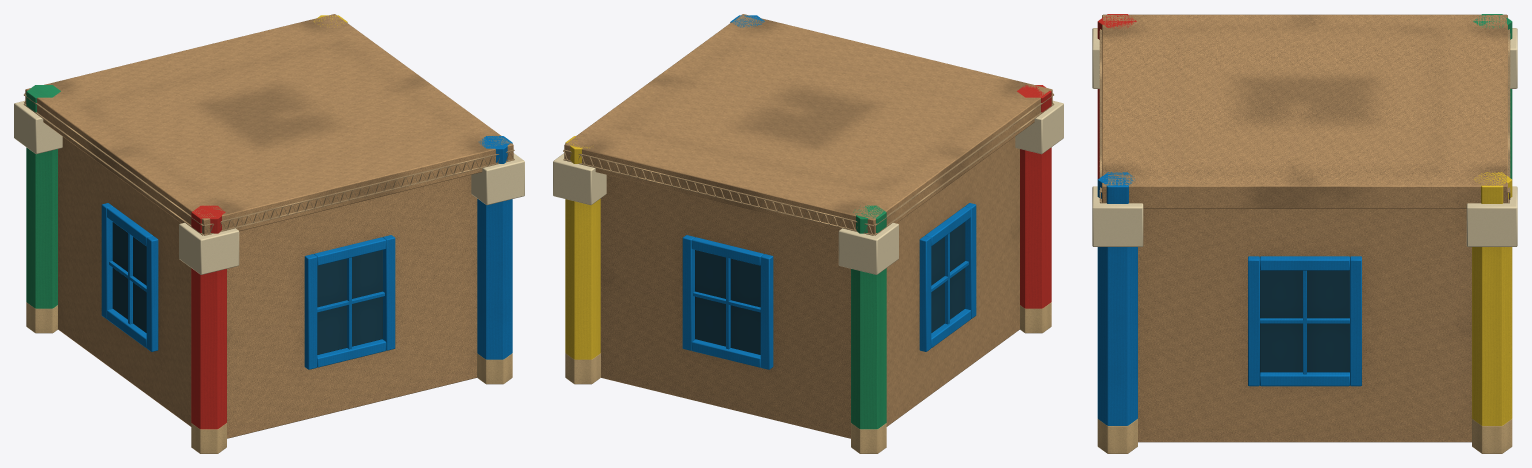
Rendered from 13-pencil-supported-box-7-1.fbx.
3 renders of one model, left to right at view 1: azimuth 30°, elevation 25°; view 2: azimuth 150°, elevation 25°; view 3: azimuth 270°, elevation 25°, orthographic. The views are drawn at different scales.
Parts seen in each view (by area): view 1: pencil-supported-box-7-1; view 2: pencil-supported-box-7-1; view 3: pencil-supported-box-7-1.
Boxes of the visible parts, x1,y1,x2,y2 form: pencil-supported-box-7-1: (14,14,524,453); pencil-supported-box-7-1: (553,14,1063,453); pencil-supported-box-7-1: (1092,14,1517,453).
Bounding box in the file's own units: 6700 × 4650 × 6700.
Materials: 1 (1 with a texture image).
